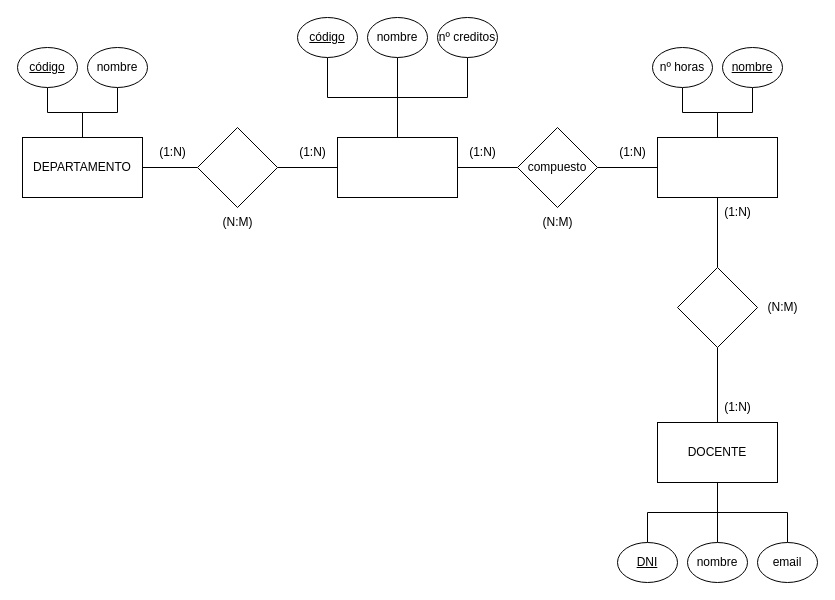
Some shapes in this 835 by 600 pixel diagram are drawn without their labels. The shapes that lost their labels are listed below. From the top down, each one's centre as x and y in pixels, then its label:
At point (237, 167): "imparte".
At point (397, 167): "CICLO".
At point (717, 167): "MODULO PROFESIONAL".
At point (717, 307): "impusto".
